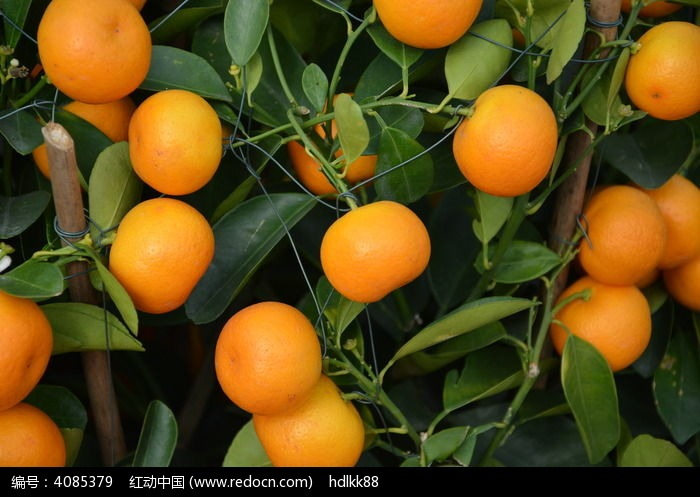orange: (214, 301, 322, 416), (108, 197, 212, 313), (454, 84, 559, 193), (319, 200, 431, 302), (37, 1, 151, 100), (250, 373, 363, 465), (129, 89, 222, 196), (553, 277, 651, 373), (34, 88, 131, 181), (574, 185, 665, 284), (291, 102, 381, 192), (623, 21, 700, 122), (1, 283, 55, 415), (371, 1, 482, 50), (646, 172, 700, 270), (1, 406, 64, 465)
